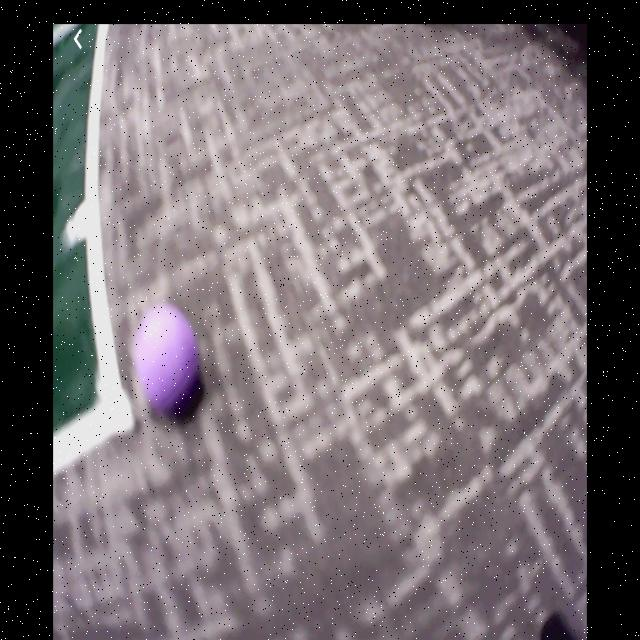ball: (137, 308, 200, 420)
